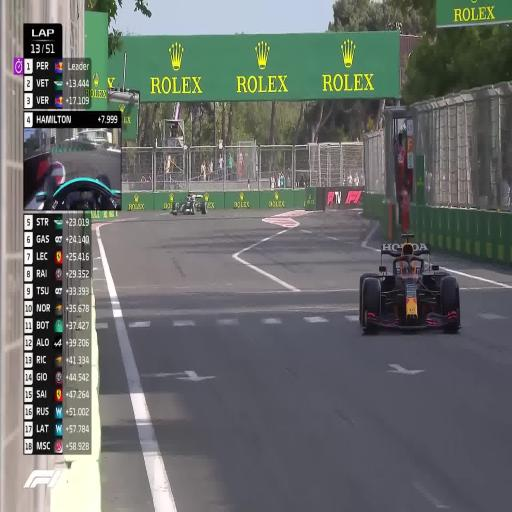f1_car: (359, 234, 460, 332), (172, 193, 207, 214)
